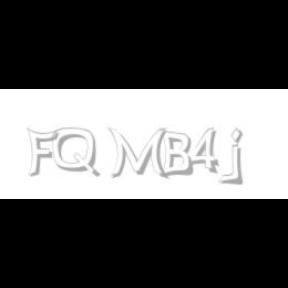4: (189, 128, 220, 174)
B: (159, 128, 193, 178)
F: (26, 128, 58, 178)
M: (107, 128, 166, 180)
Q: (52, 128, 98, 178)
j: (228, 128, 258, 186)
